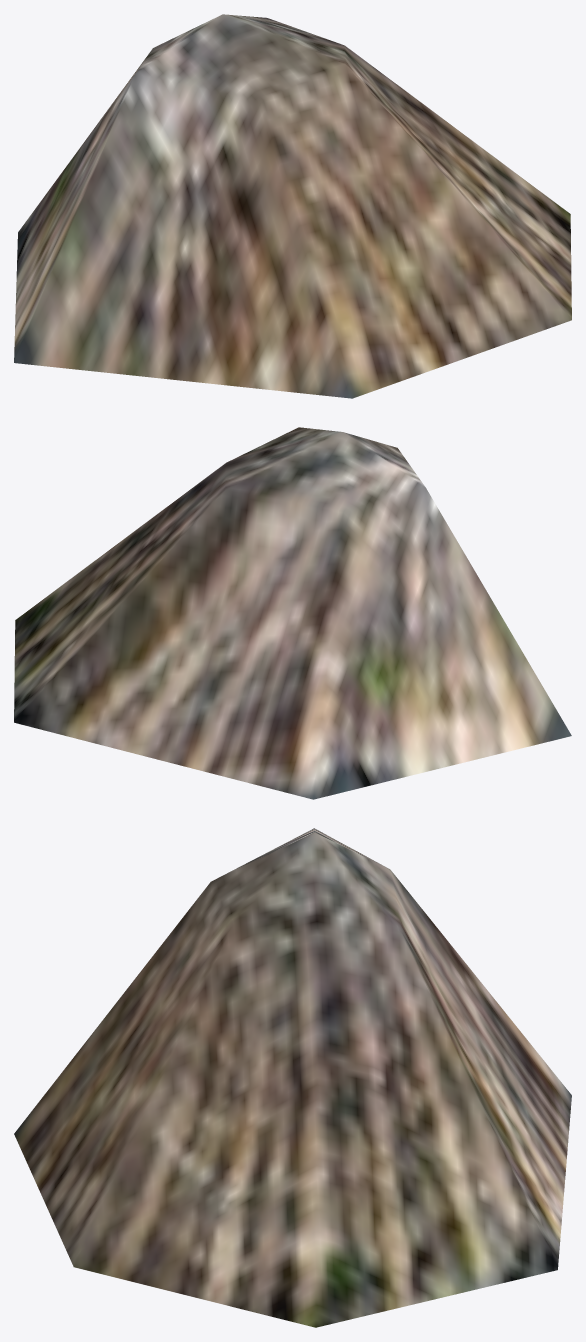
The model's file is pir_m_prp_dvj_limpet.fbx.
The picture shows the model from 3 angles, top to bottom: view 1: azimuth 30°, elevation 25°; view 2: azimuth 150°, elevation 25°; view 3: azimuth 270°, elevation 25°; orthographic projection. The views are drawn at different scales.
Parts seen in each view (by area): view 1: lod_high; view 2: lod_high; view 3: lod_high.
Boxes of the visible parts, box(x1,y1,x2,y2) form: lod_high: box(14, 14, 571, 398); lod_high: box(14, 427, 571, 799); lod_high: box(14, 828, 571, 1327).
Bounding box in the file's own units: 165 × 78.3 × 128.
1 material, 1 textured.
